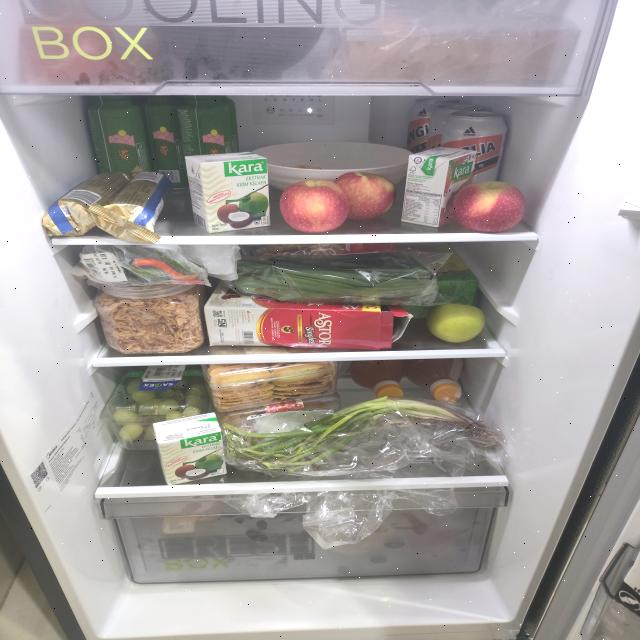apple: (279, 172, 396, 234), (452, 180, 526, 233), (426, 301, 486, 343)
chili: (130, 250, 205, 286)
coconut_milk: (184, 152, 271, 234), (400, 146, 478, 228), (152, 412, 226, 486)
grape: (114, 376, 208, 442)
leafy_greens: (233, 251, 440, 307)
spring_onion: (222, 396, 498, 474)
